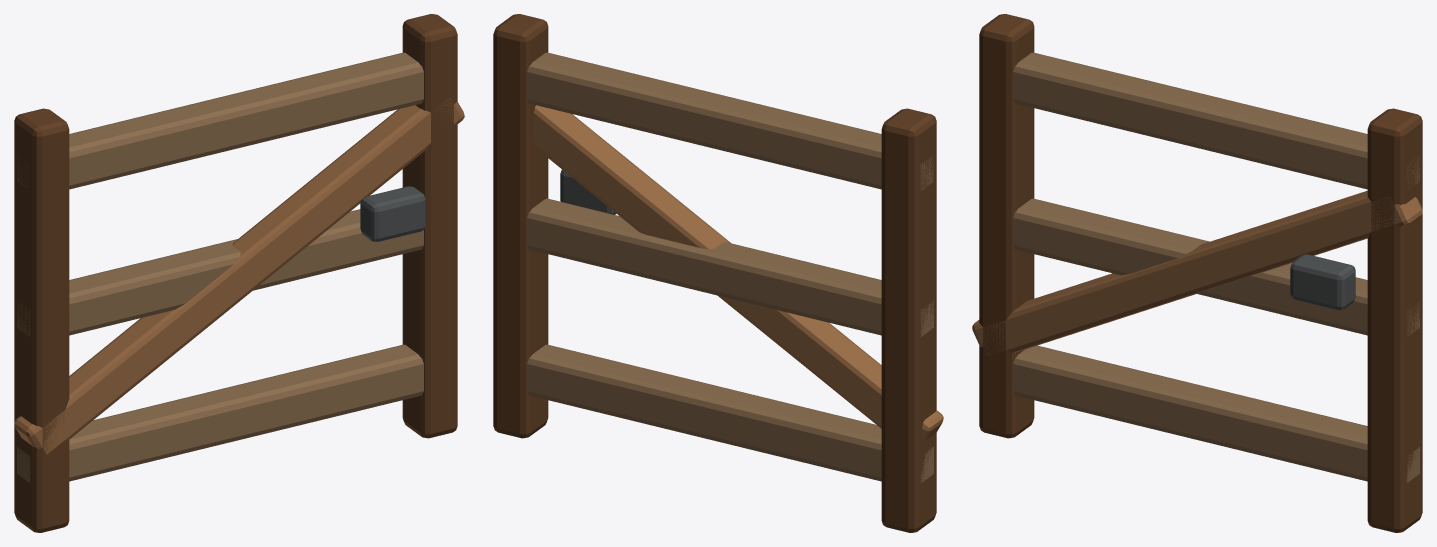
File: gate_leaf_1p4.glb
3 views of the same model, side by side, from view 1: azimuth 30°, elevation 25°; view 2: azimuth 150°, elevation 25°; view 3: azimuth 330°, elevation 25° (orthographic).
Visible parts, largest first — view 1: yard_gate_leaf_brace, yard_gate_leaf_left, yard_gate_leaf_rail_01, yard_gate_leaf_rail_03, yard_gate_leaf_right, yard_gate_leaf_rail_02, yard_gate_latch; view 2: yard_gate_leaf_left, yard_gate_leaf_rail_03, yard_gate_leaf_rail_01, yard_gate_leaf_right, yard_gate_leaf_rail_02, yard_gate_leaf_brace, yard_gate_latch; view 3: yard_gate_leaf_right, yard_gate_leaf_rail_01, yard_gate_leaf_rail_03, yard_gate_leaf_left, yard_gate_leaf_brace, yard_gate_leaf_rail_02, yard_gate_latch.
Boxes of the visible parts, left/top/right/bottom form: yard_gate_leaf_brace: left=14, top=98, right=464, bottom=454; yard_gate_leaf_left: left=14, top=108, right=69, bottom=532; yard_gate_leaf_rail_01: left=17, top=344, right=423, bottom=482; yard_gate_leaf_rail_03: left=17, top=52, right=423, bottom=190; yard_gate_leaf_right: left=402, top=14, right=457, bottom=438; yard_gate_leaf_rail_02: left=17, top=209, right=423, bottom=336; yard_gate_latch: left=360, top=186, right=425, bottom=241; yard_gate_leaf_left: left=881, top=108, right=936, bottom=532; yard_gate_leaf_rail_03: left=527, top=52, right=933, bottom=190; yard_gate_leaf_rail_01: left=527, top=344, right=933, bottom=482; yard_gate_leaf_right: left=493, top=14, right=548, bottom=438; yard_gate_leaf_rail_02: left=527, top=198, right=933, bottom=336; yard_gate_leaf_brace: left=533, top=105, right=943, bottom=440; yard_gate_latch: left=560, top=169, right=616, bottom=214; yard_gate_leaf_right: left=1367, top=108, right=1422, bottom=532; yard_gate_leaf_rail_01: left=1013, top=345, right=1419, bottom=482; yard_gate_leaf_rail_03: left=1013, top=52, right=1419, bottom=189; yard_gate_leaf_left: left=979, top=14, right=1034, bottom=438; yard_gate_leaf_brace: left=972, top=190, right=1422, bottom=355; yard_gate_leaf_rail_02: left=1013, top=198, right=1419, bottom=335; yard_gate_latch: left=1290, top=254, right=1355, bottom=309.
Size of the model in its own units: 1.44 by 1.28 by 0.215.
